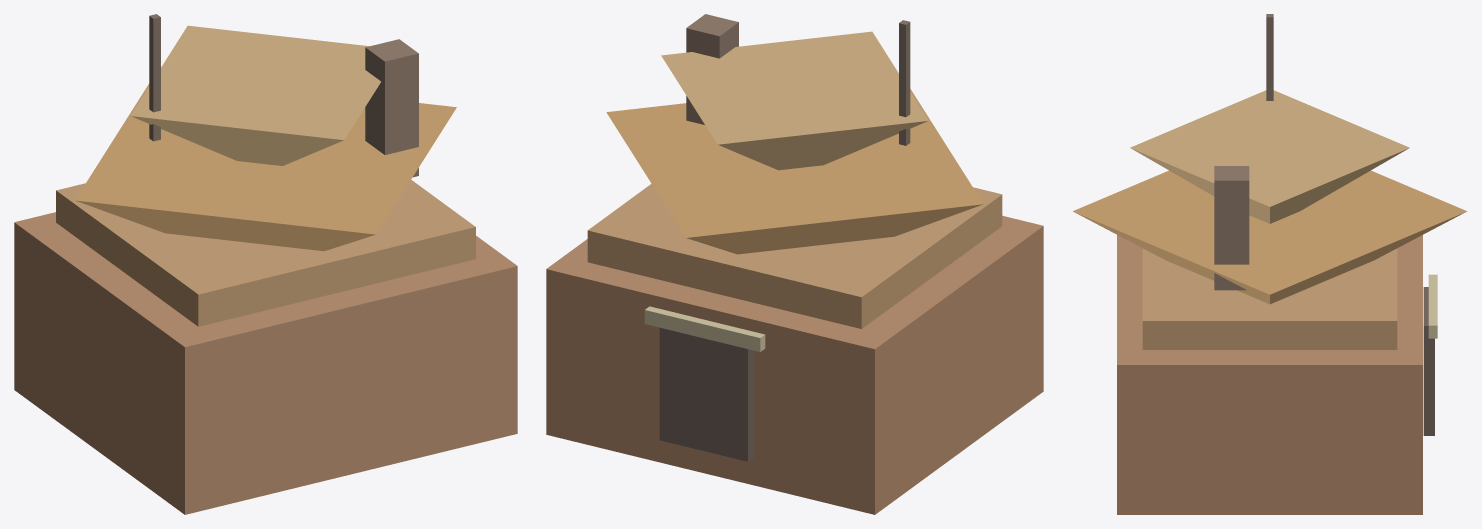
Rendered from town_hall.glb.
3 renders of one model, left to right at view 1: azimuth 30°, elevation 25°; view 2: azimuth 150°, elevation 25°; view 3: azimuth 270°, elevation 25°, orthographic. The views are drawn at different scales.
Visible parts, largest first — view 1: town_hall_0, town_hall_2, town_hall_1, town_hall_3, town_hall_6, town_hall_7; view 2: town_hall_0, town_hall_2, town_hall_1, town_hall_3, town_hall_4, town_hall_5, town_hall_6, town_hall_7; view 3: town_hall_0, town_hall_2, town_hall_1, town_hall_3, town_hall_6, town_hall_4, town_hall_7, town_hall_5.
Part boxes in pixels (x1,y1,x2,y2): town_hall_0: (14, 212, 517, 514); town_hall_2: (75, 83, 456, 251); town_hall_1: (56, 180, 475, 326); town_hall_3: (130, 25, 380, 165); town_hall_6: (365, 39, 418, 177); town_hall_7: (149, 14, 160, 141); town_hall_0: (546, 215, 1043, 514); town_hall_2: (606, 89, 983, 254); town_hall_1: (587, 184, 1002, 328); town_hall_3: (661, 31, 928, 170); town_hall_4: (659, 327, 754, 461); town_hall_5: (644, 306, 765, 351); town_hall_6: (686, 14, 738, 124); town_hall_7: (899, 20, 910, 145); town_hall_0: (1117, 235, 1422, 514); town_hall_2: (1073, 170, 1466, 304); town_hall_1: (1142, 248, 1397, 349); town_hall_3: (1130, 90, 1409, 223); town_hall_6: (1214, 166, 1249, 290); town_hall_4: (1423, 287, 1434, 435); town_hall_7: (1266, 14, 1273, 100); town_hall_5: (1428, 274, 1437, 338).
Bounding box in the file's own units: 6.2 × 6.55 × 6.2.
